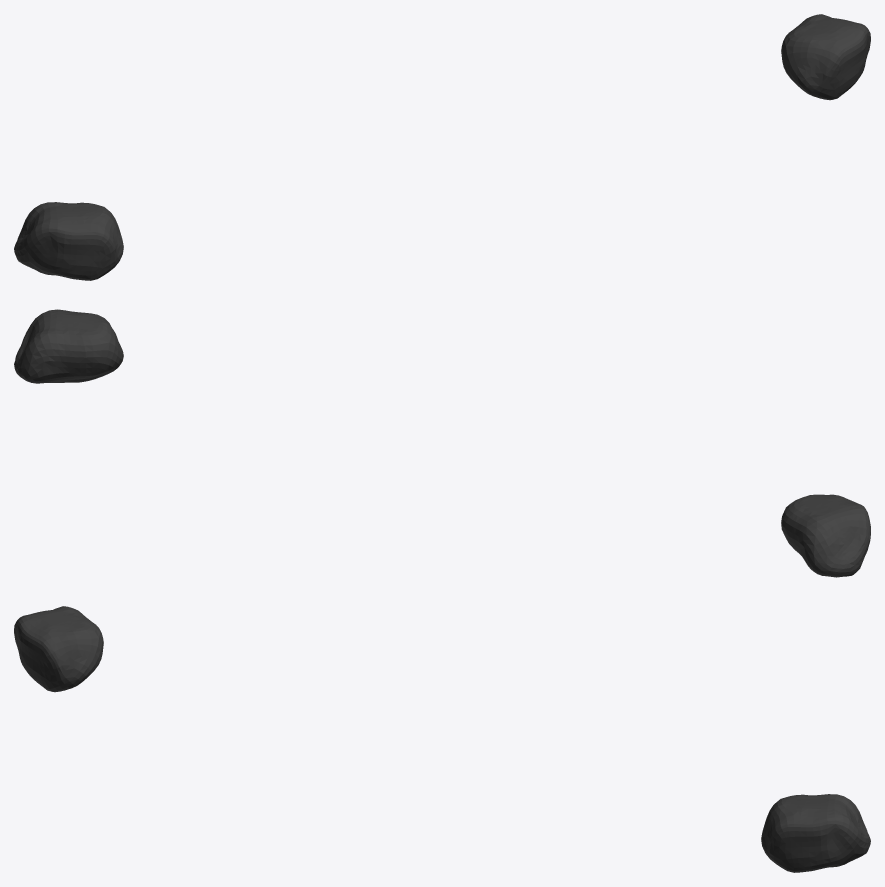
Rendered from Carpal_fourth_1.glb.
3 renders of one model, top to bottom at view 1: azimuth 30°, elevation 25°; view 2: azimuth 150°, elevation 25°; view 3: azimuth 330°, elevation 25°, orthographic.
Visible parts, largest first — view 1: Carpal_fourth_1; view 2: Carpal_fourth_1; view 3: Carpal_fourth_1.
Part boxes in pixels (x1,y1,x2,y2): Carpal_fourth_1: (14, 14, 870, 280); Carpal_fourth_1: (14, 309, 870, 577); Carpal_fourth_1: (14, 606, 870, 872).
Size of the model in its own units: 0.00392 by 0.000276 by 0.000405.
1 material, 1 textured.
